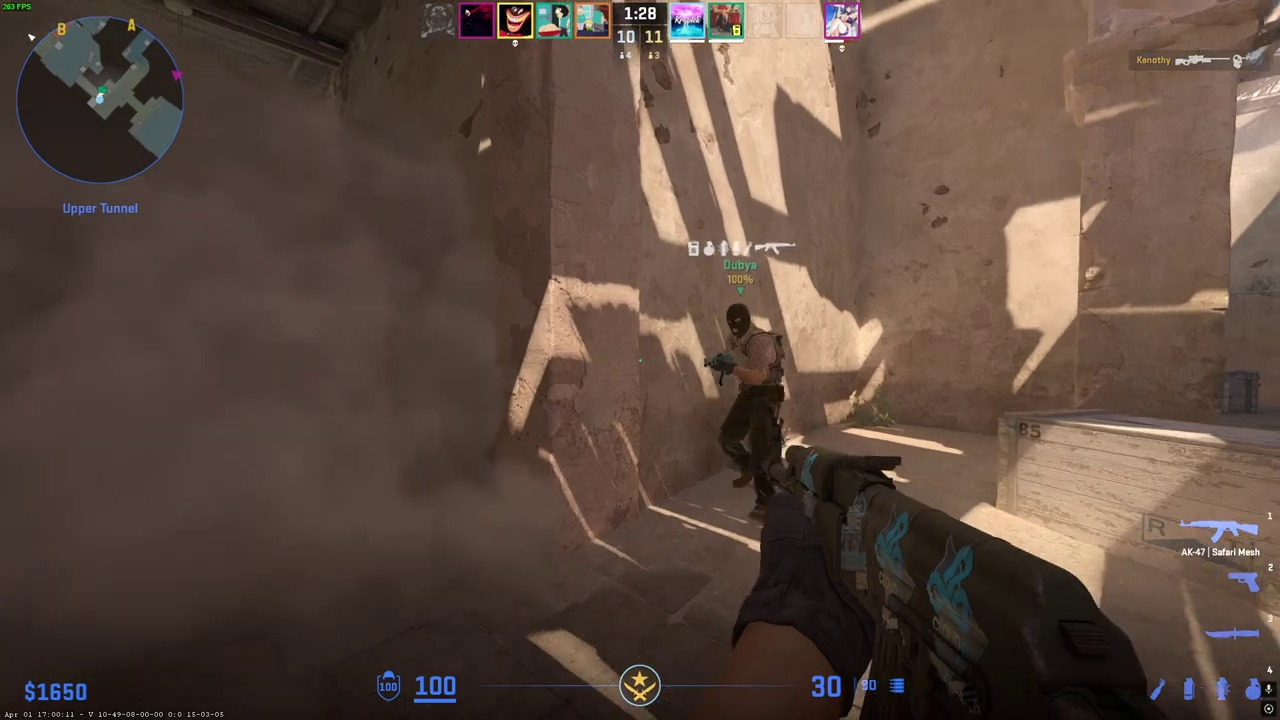Terrorist: (712, 301, 790, 516)
